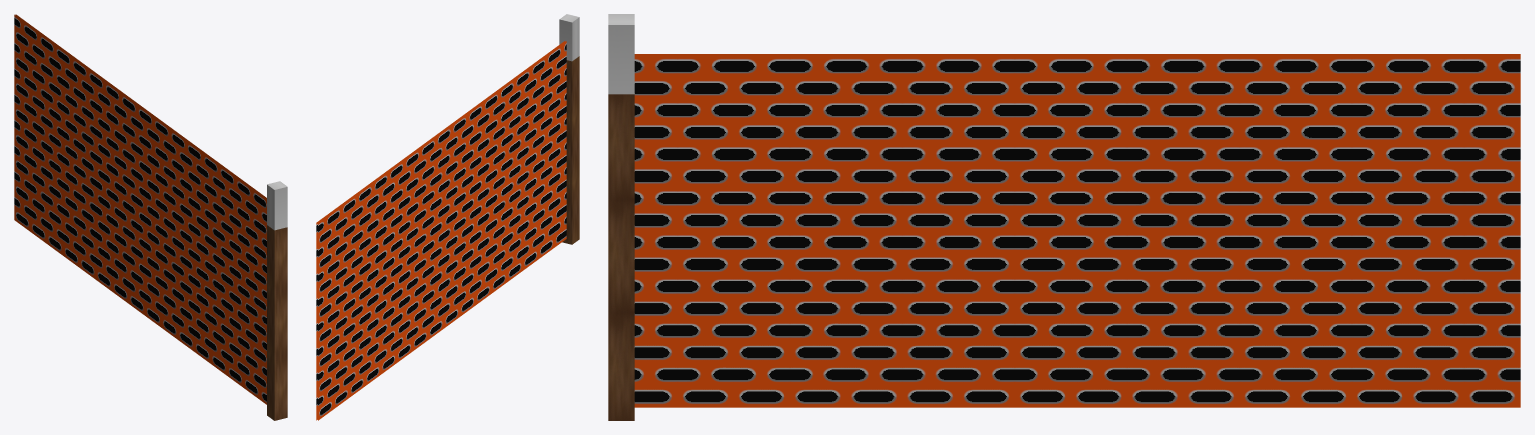
File: PlasticStartFenceShort.fbx
The picture shows the model from 3 angles, left to right: view 1: azimuth 30°, elevation 25°; view 2: azimuth 150°, elevation 25°; view 3: azimuth 270°, elevation 25°; orthographic projection. The views are drawn at different scales.
Visible parts, largest first — view 1: Plane#2, Cylinder#2; view 2: Plane#2, Cylinder#2; view 3: Plane#2, Cylinder#2.
Part boxes in pixels (x1,y1,x2,y2): Plane#2: (14,14,266,404); Cylinder#2: (267,181,287,420); Plane#2: (316,41,566,420); Cylinder#2: (559,14,579,244); Plane#2: (634,54,1520,407); Cylinder#2: (608,14,634,420).
Size of the model in its own units: 0.117 by 1.94 by 4.06.
Materials: 4 (4 with a texture image).
